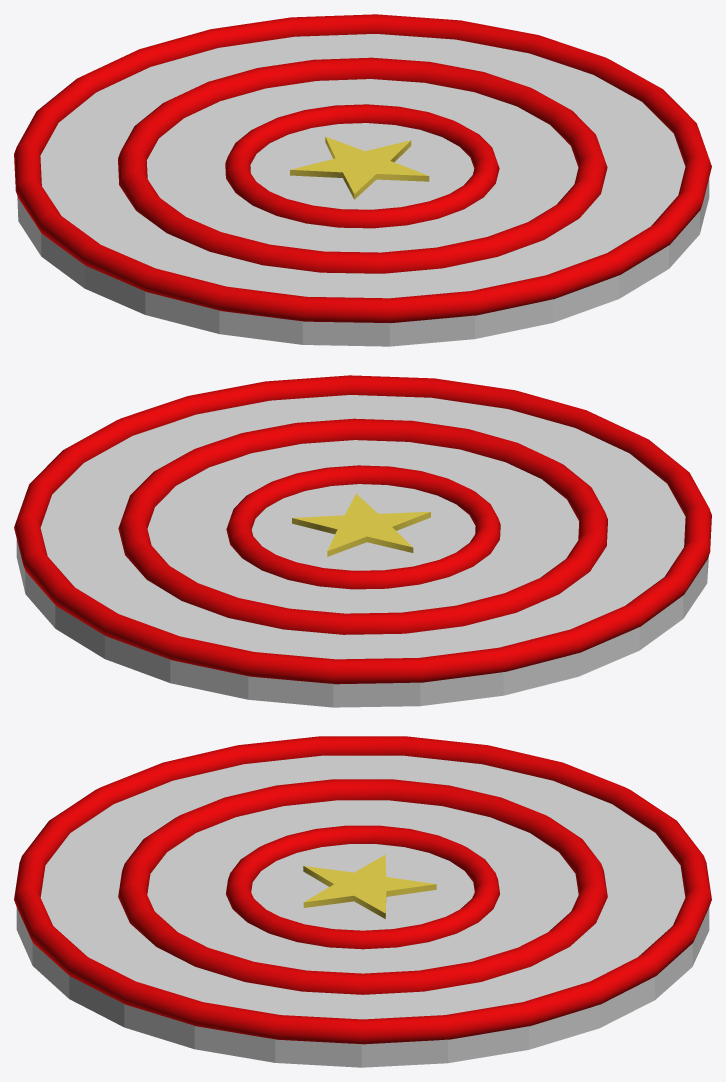
The model's file is target.fbx.
3 views of the same model, one above another, from view 1: azimuth 30°, elevation 25°; view 2: azimuth 150°, elevation 25°; view 3: azimuth 270°, elevation 25° (orthographic).
Visible parts, largest first — view 1: Circle; view 2: Circle; view 3: Circle.
Boxes of the visible parts, bbox=[...] form: Circle: bbox=[14, 14, 711, 346]; Circle: bbox=[14, 375, 711, 707]; Circle: bbox=[14, 736, 711, 1067].
Size of the model in its own units: 195 by 13.33 by 195.
